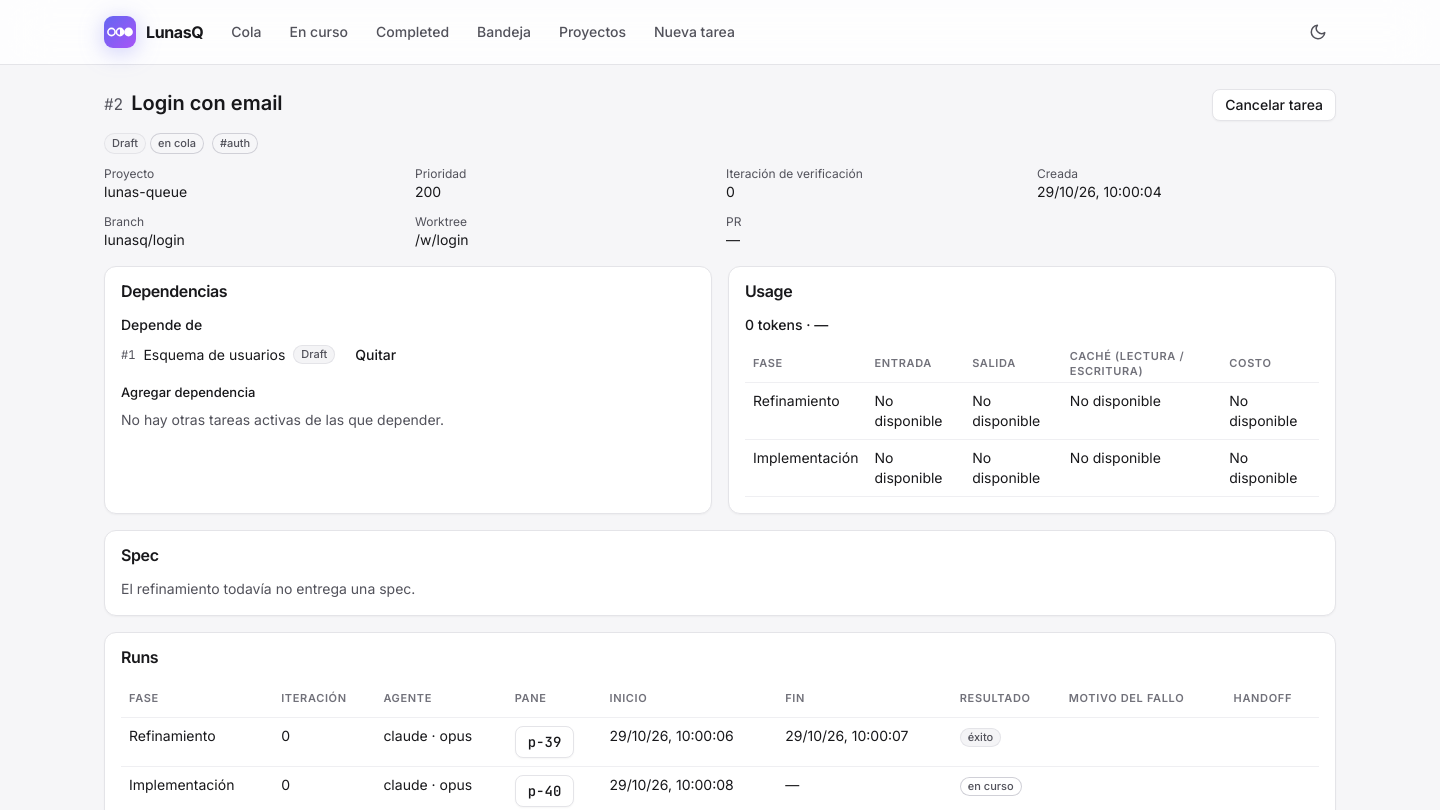
Test: detalle de tarea › si el foco falla muestra el error junto a ese pane y deja la tabla y las demás filas
Click the button "p-39".
click(544, 742)  # box [515,726,574,758]
(page scrolled)
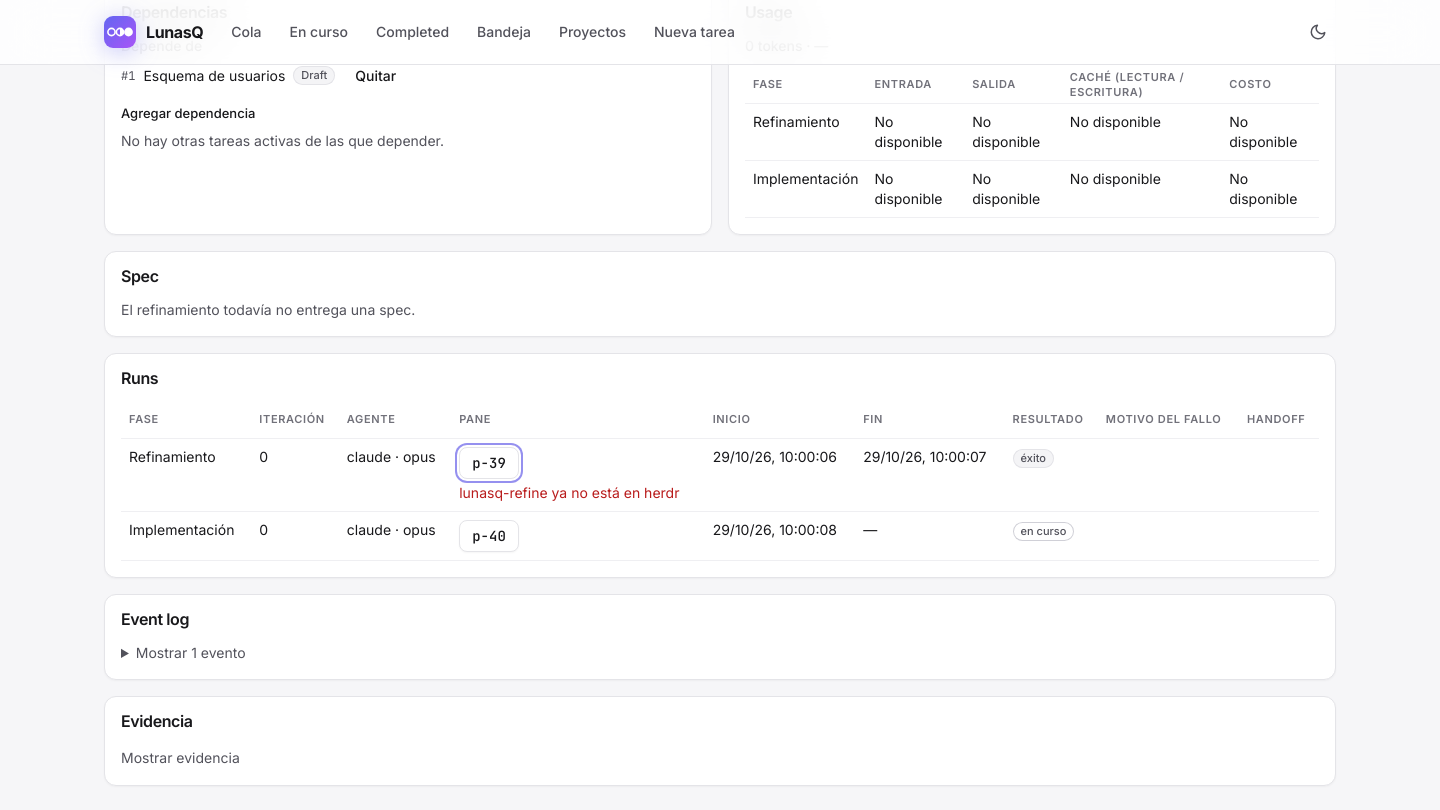
Expected: the message reads "lunasq-refine ya no está en herdr", [459,484,680,500]
